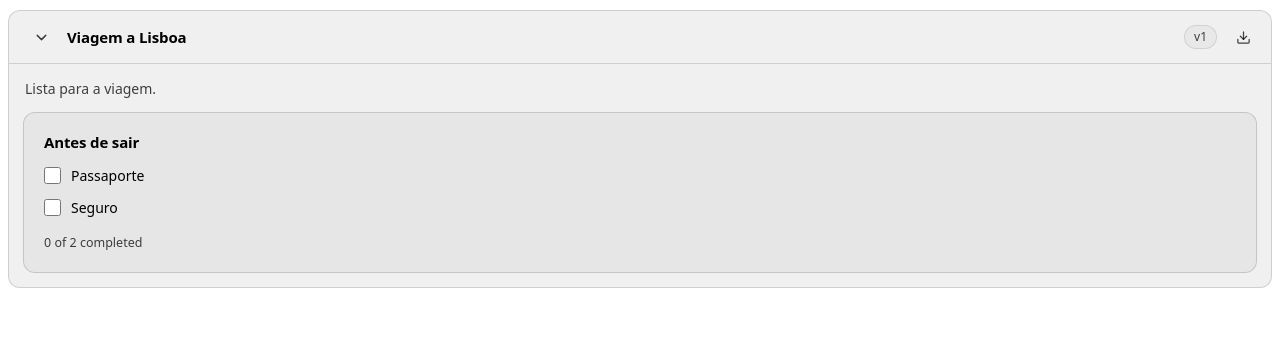
it: InlineCanvas › speaks English when the interface does
Expected: the heading "Viagem a Lisboa" is shown, 67,27 -> 186,47
Step 1. Click the checkbox labelled "Passaporte" → (52, 176), box 44,167 -> 61,184
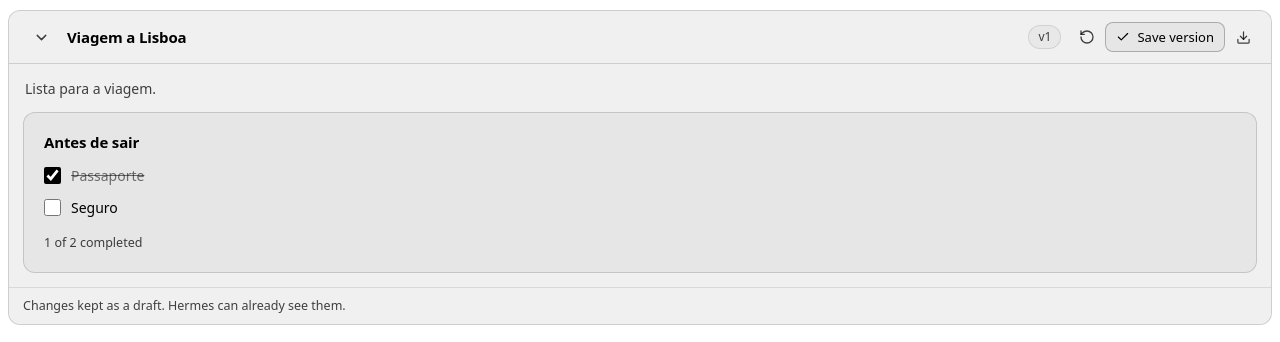
Expected: the button "Save version" is shown, 1106,22 -> 1225,52
Step 2. Click the button named "Export" → (1243, 37), box 1227,21 -> 1259,53
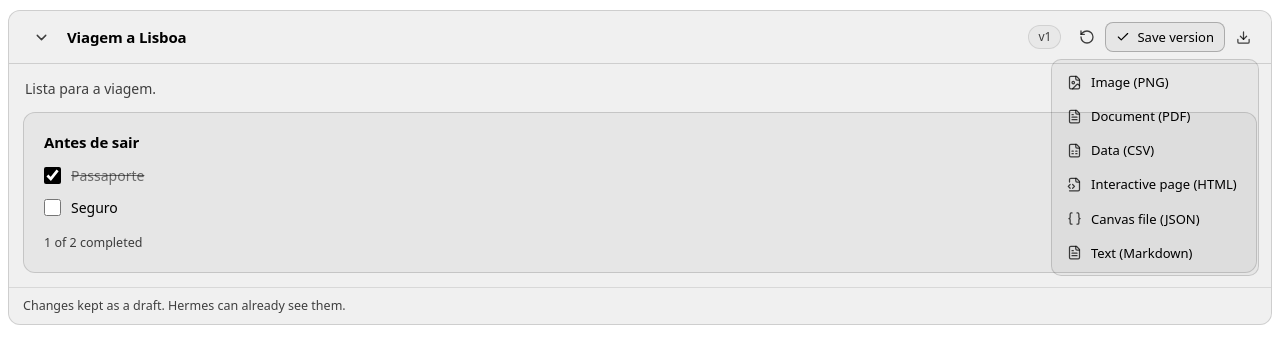
Expected: the menu item "Interactive page (HTML)" is shown, 1057,167 -> 1253,202
Expected: the menu item "Image (PNG)" is shown, 1057,65 -> 1253,99
